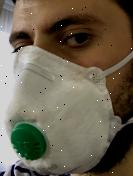with_mask: (2, 1, 133, 176)
